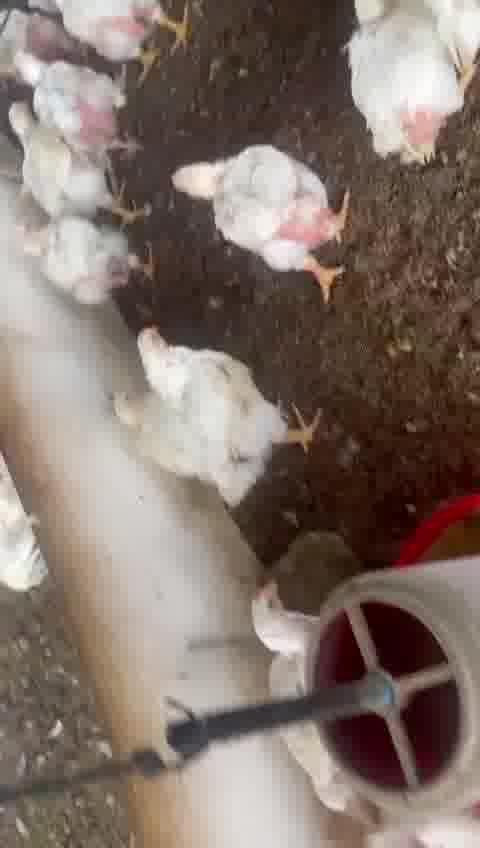AbNormal: (335, 4, 477, 158)
Normal: (137, 327, 318, 475), (167, 150, 349, 297), (7, 102, 146, 221), (4, 220, 152, 302), (34, 2, 196, 72)
